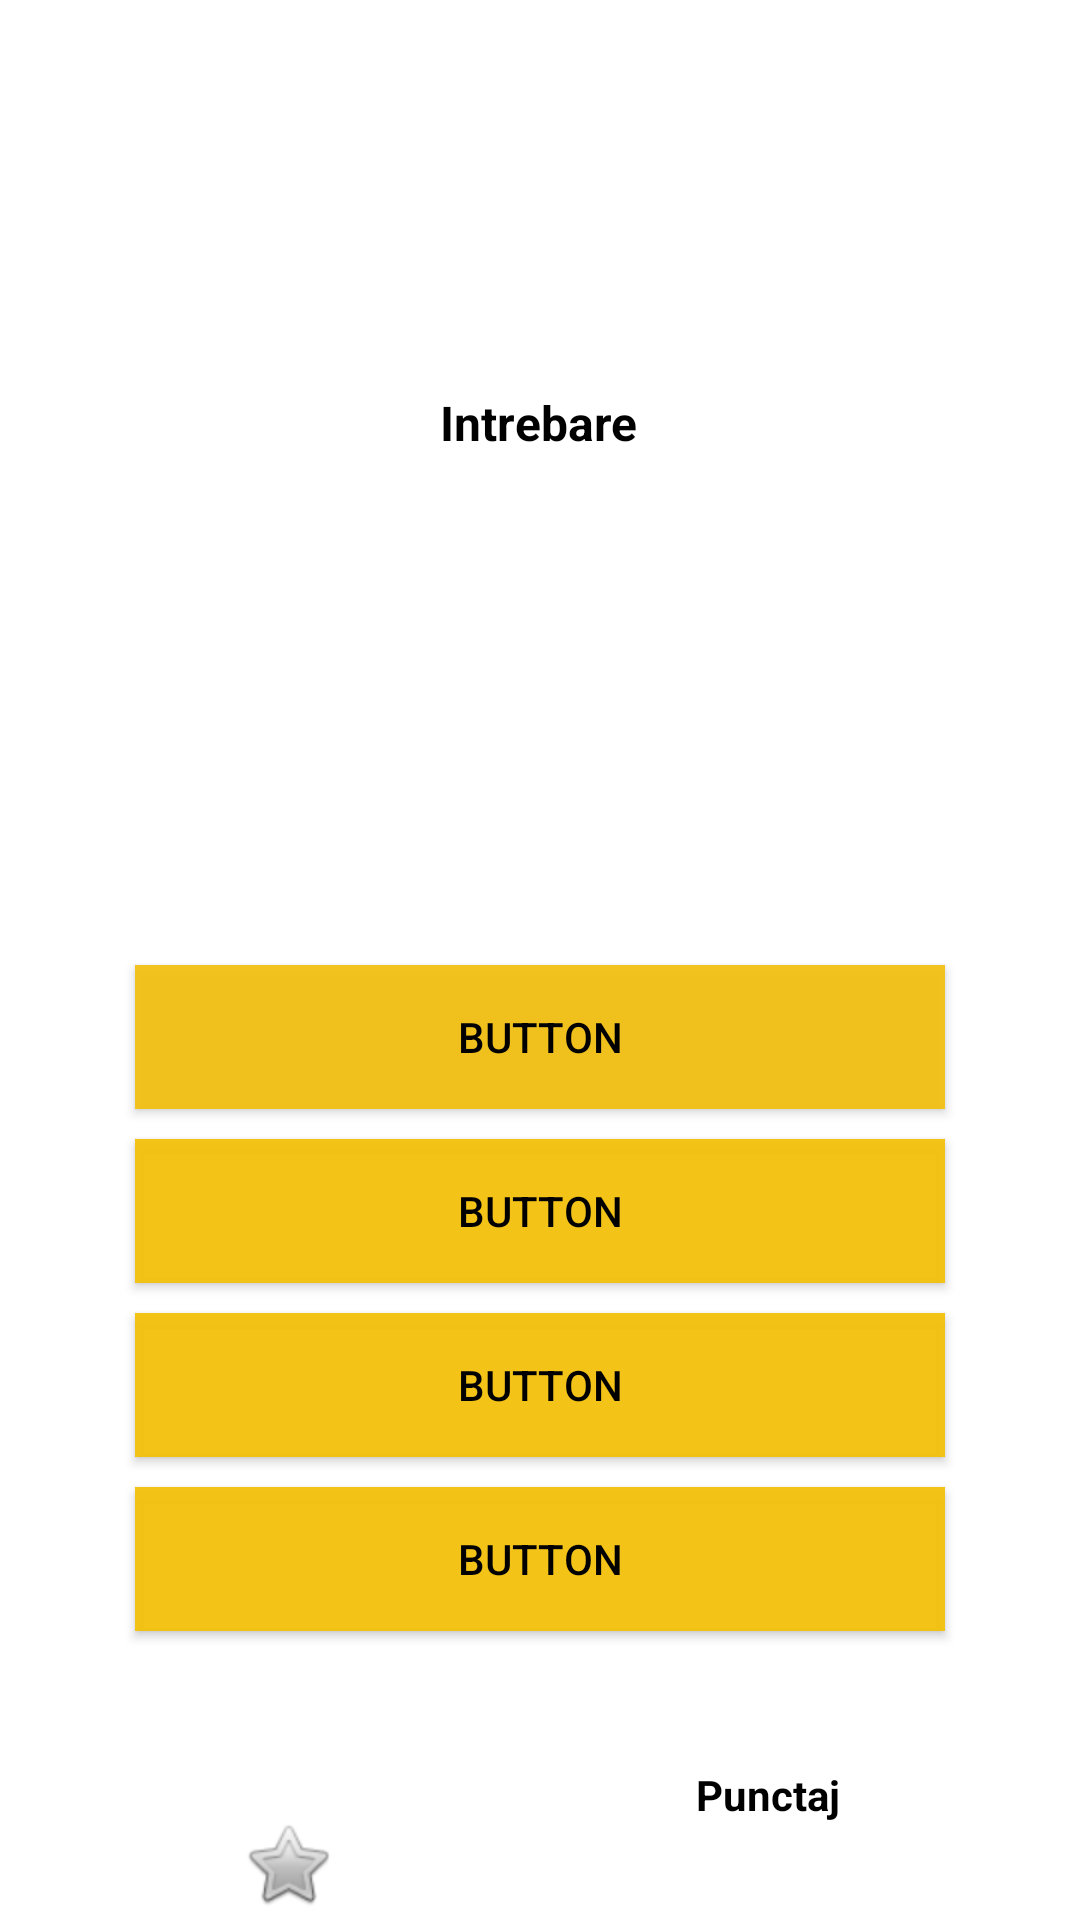

Screen size 1080 × 1920. Icon name, then its box in pixels as (x1, y1, x2, y2):
star: (249, 1826, 329, 1904)
